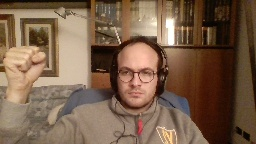Pugno: (1, 44, 48, 91)
